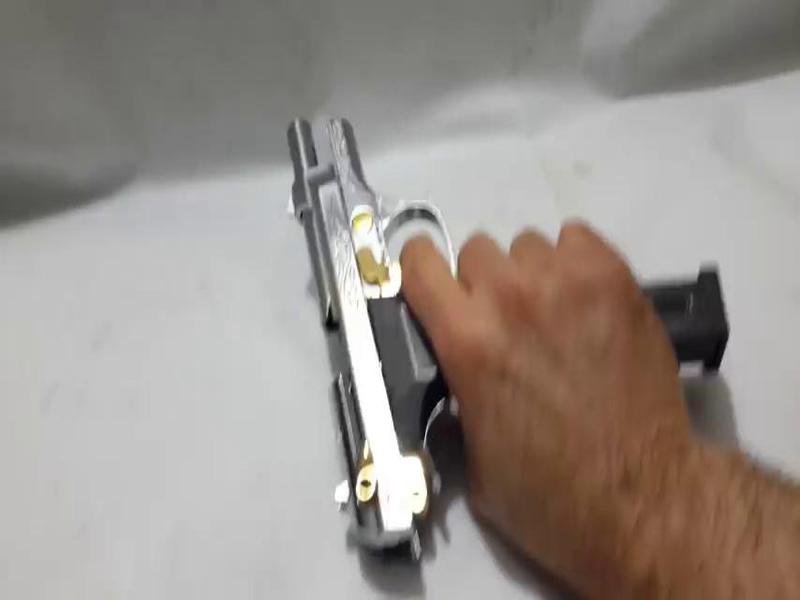Pistola: (279, 98, 541, 554)
